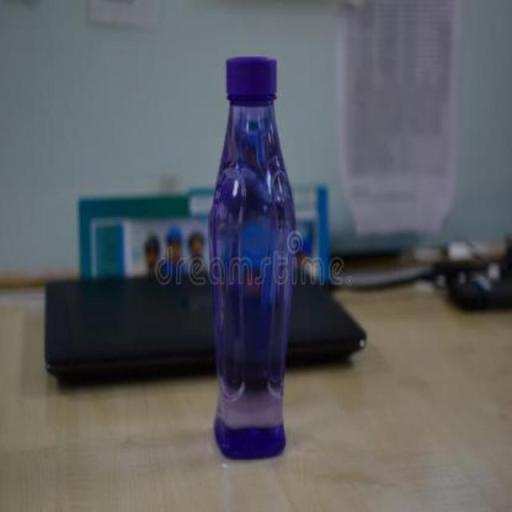Coca: (204, 46, 305, 468)
